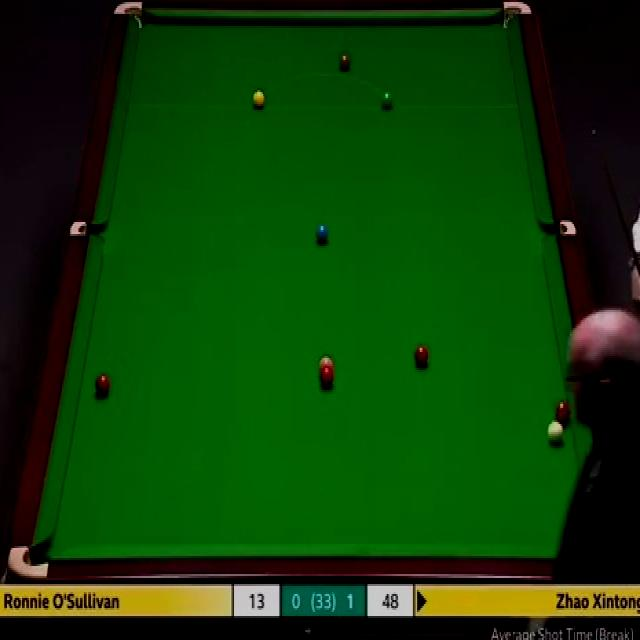blue-ball: (315, 222, 330, 244)
brown-ball: (338, 52, 351, 72)
green-ball: (380, 89, 393, 110)
pink-ball: (318, 356, 334, 370)
red-ball: (95, 372, 111, 398), (555, 402, 572, 424), (318, 367, 335, 388), (414, 345, 428, 368)
white-ball: (546, 420, 564, 446)
yellow-ball: (254, 91, 267, 111)
